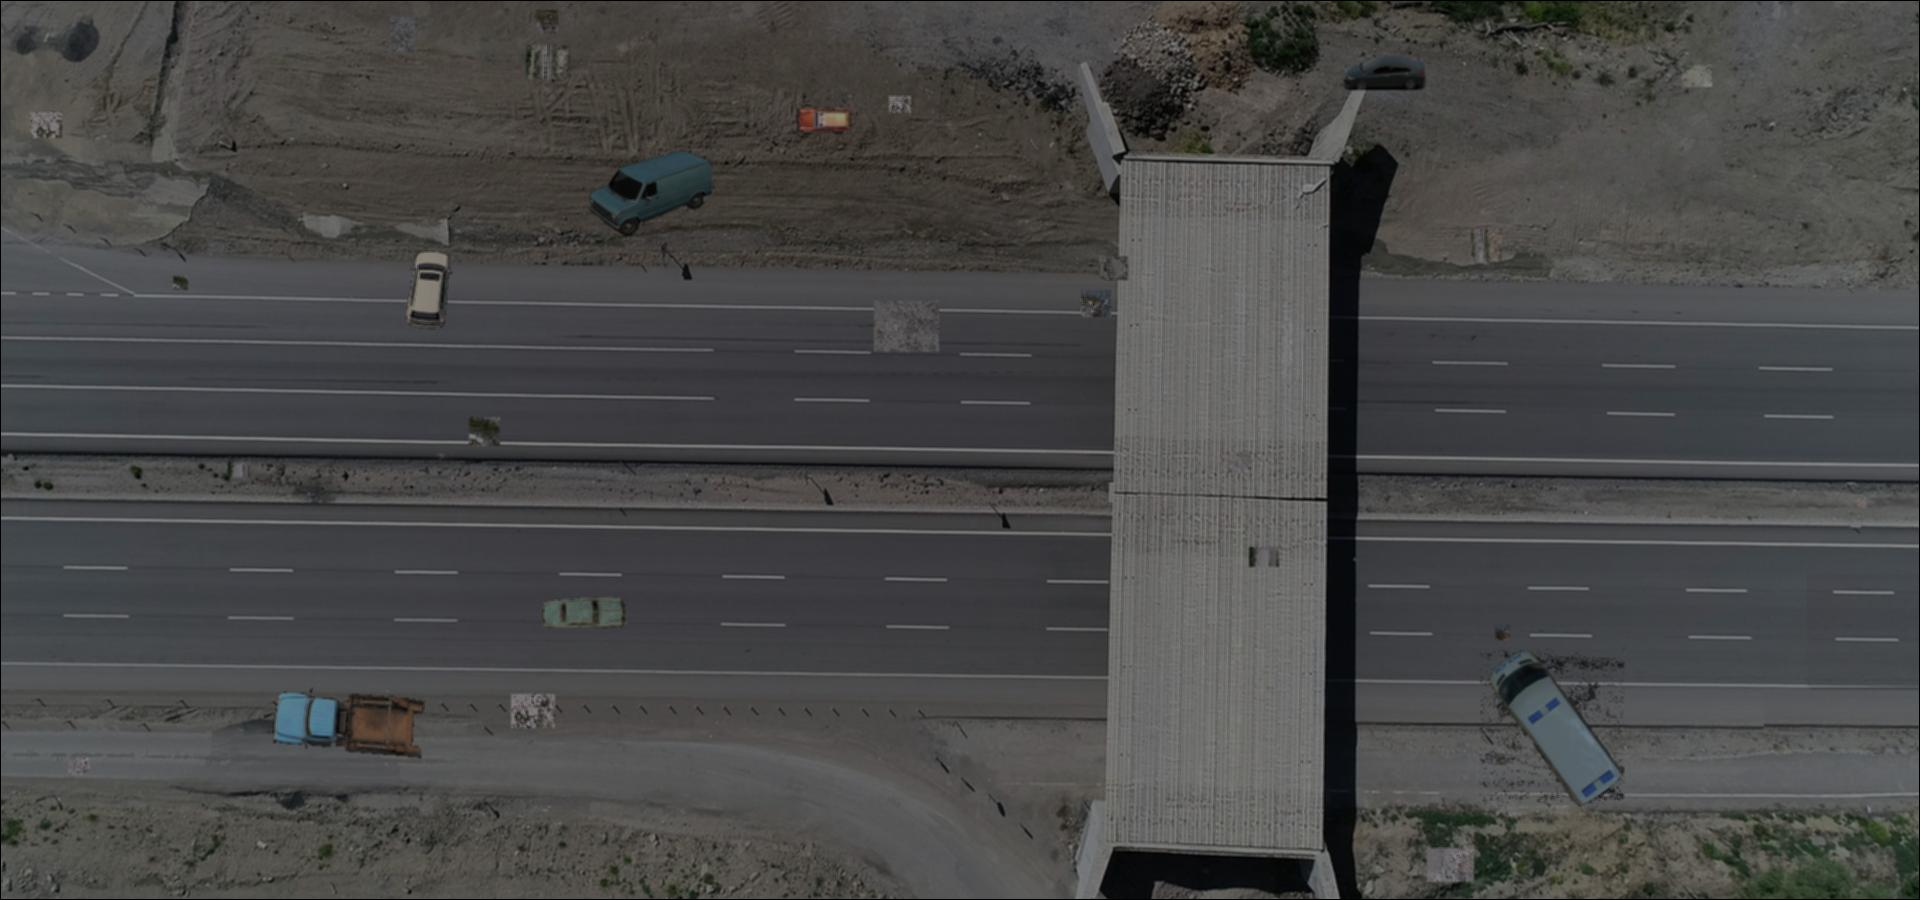arac: (1480, 649, 1624, 808), (268, 688, 426, 759), (587, 148, 711, 236), (403, 249, 453, 329), (1343, 53, 1428, 91), (538, 595, 628, 628), (795, 105, 853, 135)
